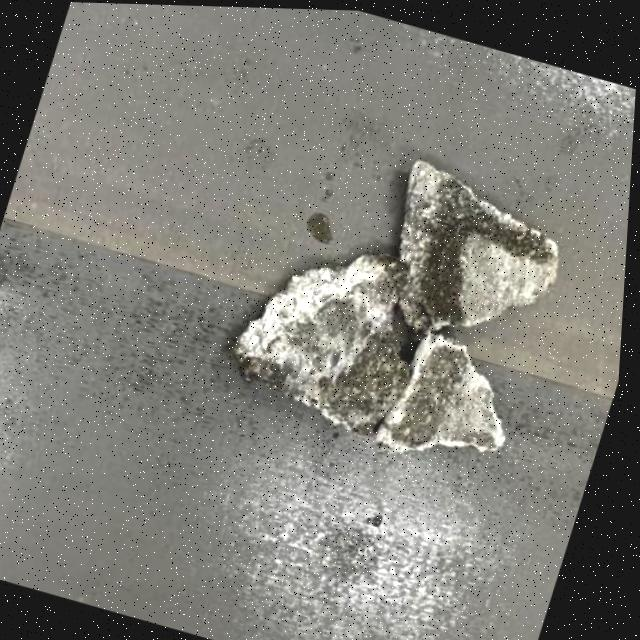Road Debris: (320, 301, 434, 438), (415, 168, 574, 262), (383, 320, 481, 462), (397, 225, 490, 333)
